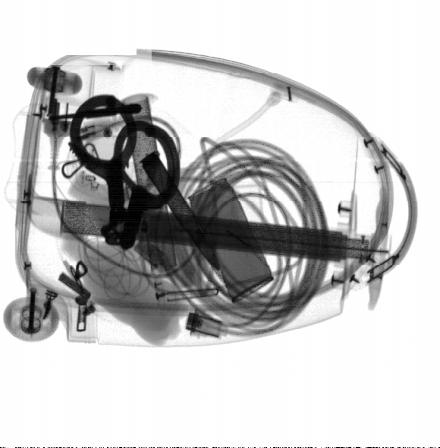Bullet: (137, 149, 221, 272)
Gun: (48, 101, 143, 123)
HandCuffs: (67, 94, 182, 252)
